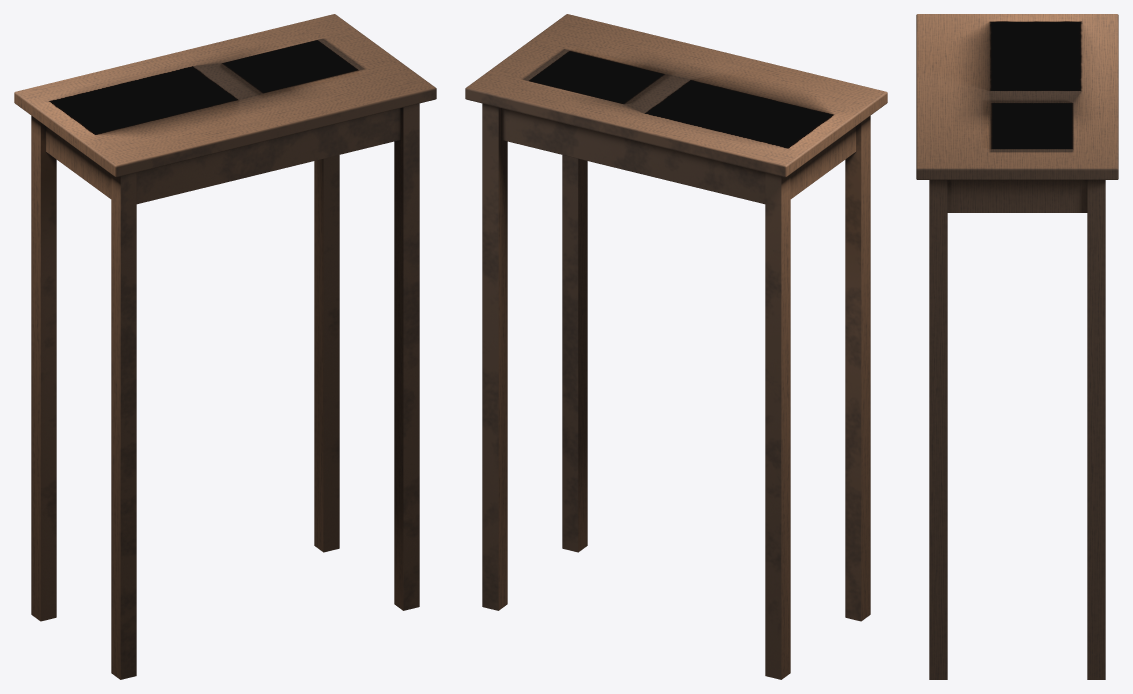
File: 814_hook.glb
The picture shows the model from 3 angles, left to right: view 1: azimuth 30°, elevation 25°; view 2: azimuth 150°, elevation 25°; view 3: azimuth 270°, elevation 25°; orthographic projection.
Visible parts, largest first — view 1: Table; view 2: Table; view 3: Table.
Boxes of the visible parts, box(x1,y1,x2,y2) form: Table: box(14, 14, 436, 679); Table: box(465, 14, 887, 679); Table: box(916, 14, 1118, 679).
Size of what is drawn, in the model's own units: 2 by 3.1 by 1.1.
1 material, 1 textured.
